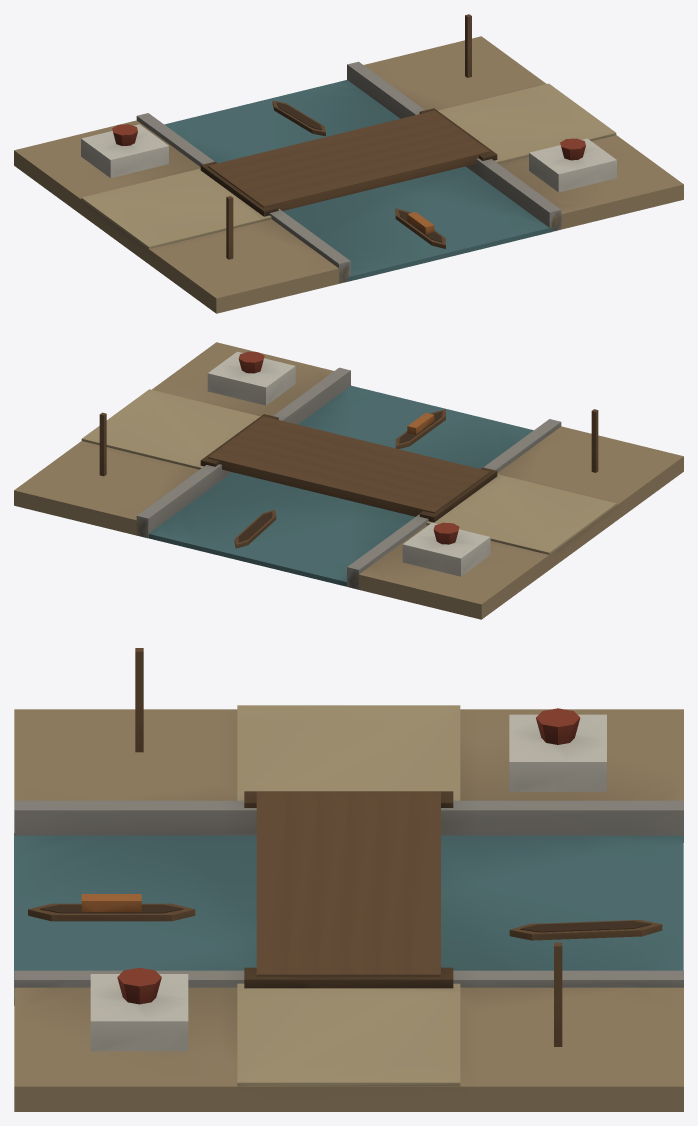
File: toltec-bridge.glb
The picture shows the model from 3 angles, top to bottom: view 1: azimuth 30°, elevation 25°; view 2: azimuth 150°, elevation 25°; view 3: azimuth 270°, elevation 25°; orthographic projection. The views are drawn at different scales.
Parts seen in each view (by area): view 1: p0_banks, p1_bridge, p2_guards; view 2: p0_banks, p1_bridge, p2_guards; view 3: p0_banks, p1_bridge, p2_guards.
Part boxes in pixels (left/top/right/bottom): p0_banks: left=14, top=36, right=683, bottom=313; p1_bridge: left=200, top=108, right=497, bottom=216; p2_guards: left=81, top=14, right=616, bottom=259; p0_banks: left=14, top=342, right=683, bottom=619; p1_bridge: left=200, top=414, right=497, bottom=522; p2_guards: left=99, top=351, right=598, bottom=576; p0_banks: left=14, top=705, right=683, bottom=1111; p1_bridge: left=244, top=791, right=453, bottom=988; p2_guards: left=28, top=648, right=662, bottom=1051.
Size of the model in its own units: 32.01 by 4.99 by 24.01.
